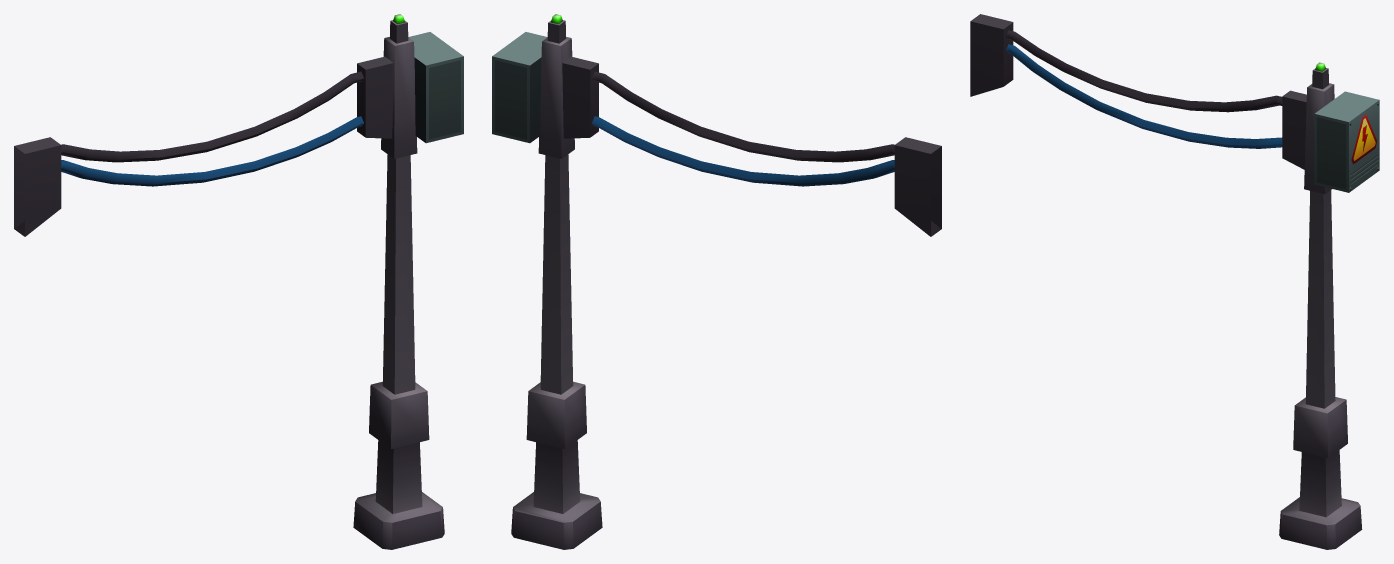
The model's file is Cable_Pole_1B.fbx.
3 views of the same model, side by side, from view 1: azimuth 30°, elevation 25°; view 2: azimuth 150°, elevation 25°; view 3: azimuth 330°, elevation 25° (orthographic). The views are drawn at different scales.
Parts seen in each view (by area): view 1: Cable_Pole_1B; view 2: Cable_Pole_1B; view 3: Cable_Pole_1B.
Boxes of the visible parts, x1,y1,x2,y2 form: Cable_Pole_1B: [14, 14, 463, 549]; Cable_Pole_1B: [492, 14, 941, 549]; Cable_Pole_1B: [970, 14, 1379, 549].
Size of the model in its own units: 678 by 778 by 98.52.
